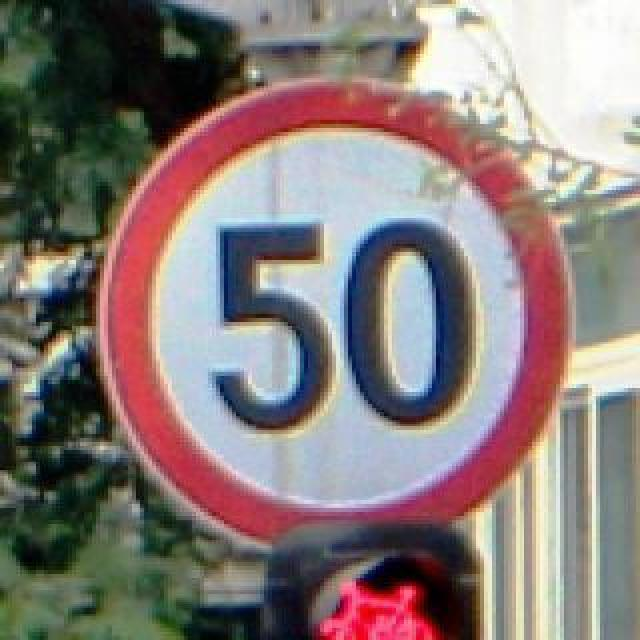50 kph: (92, 74, 572, 554)
